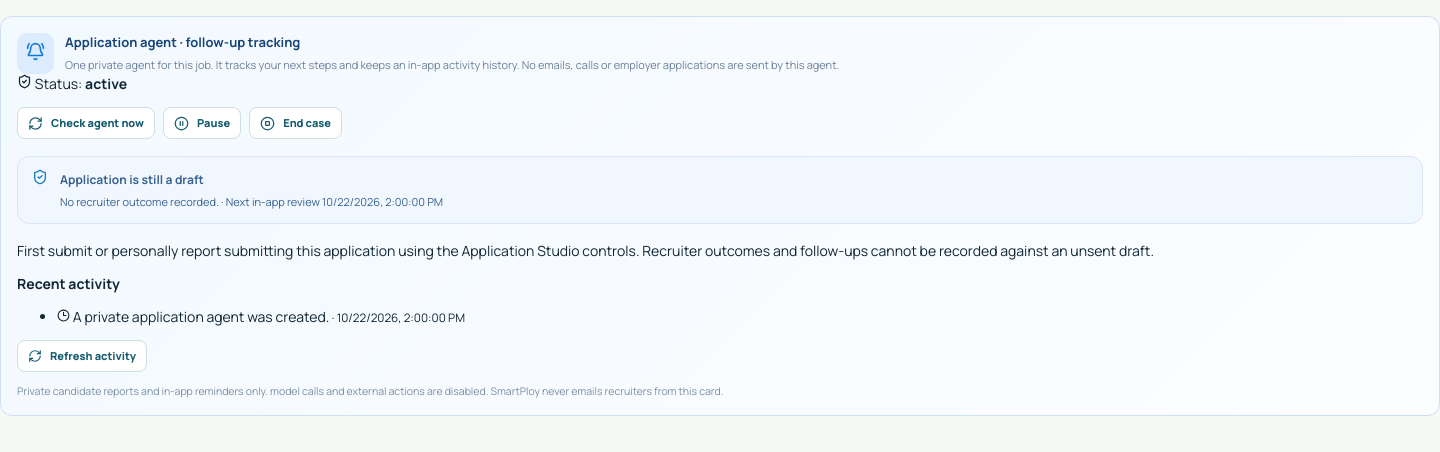
it: Agent Zero in the existing application studio › checks one active application on applicant click without sending anything
What coordinates should you click on to do the following:
click the button "Check agent now"
I would click on:
 (86, 123)
Its box is [17, 107, 155, 139].
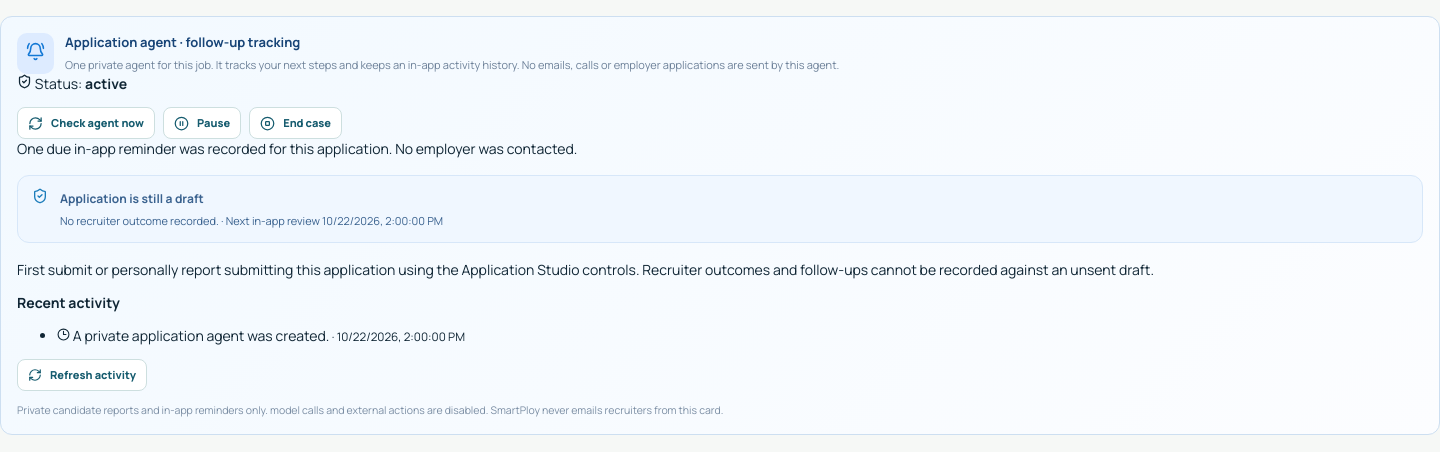
Check: the text "No employer was contacted" is shown, box [17, 139, 577, 158]
